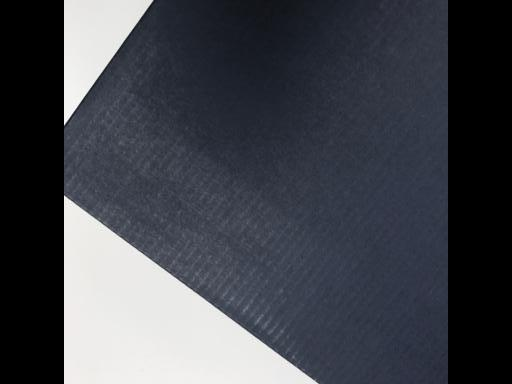cardboard: (67, 4, 449, 381)
